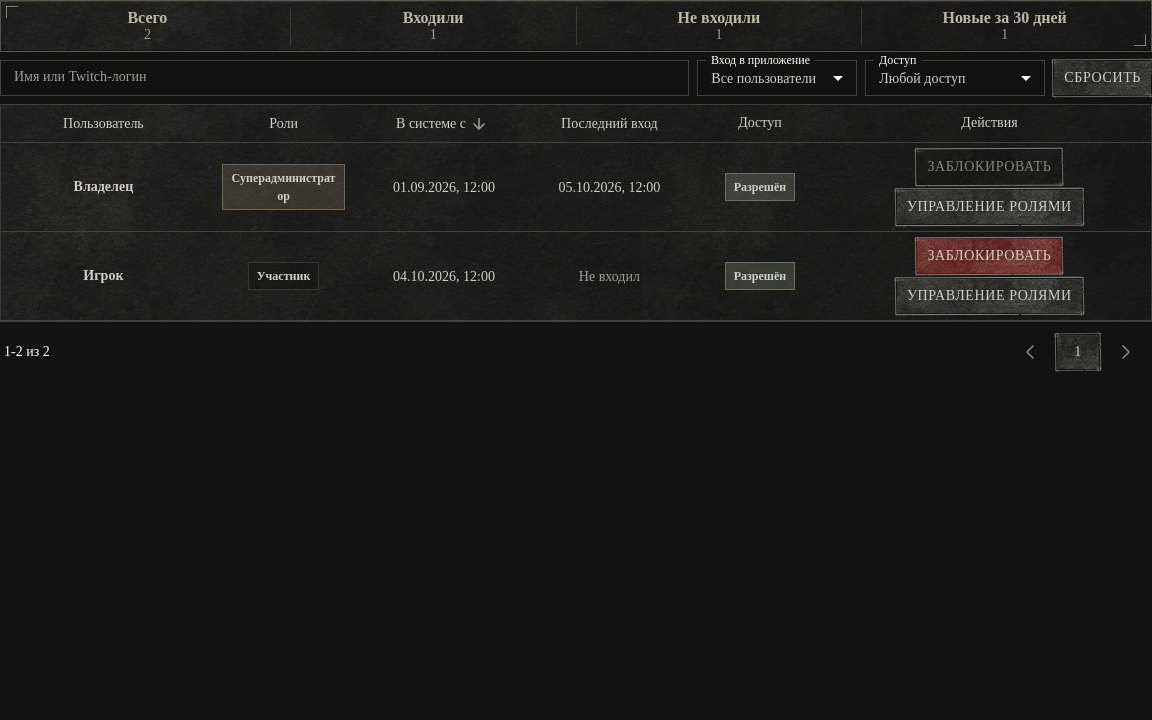
RoleAdministrationPage › keeps the list compact and protects permanent and inherited roles in the editor
expect the button with aria-label "Управление ролями: Игрок" is shown: met, box x1=896 y1=278 x2=1083 y2=314
expect the text "Не входил" is shown: met, box x1=579 y1=269 x2=640 y2=284
Click the button with aria-label "Управление ролями: Владелец". click: click(989, 207)
box: x1=896 y1=189 x2=1083 y2=225
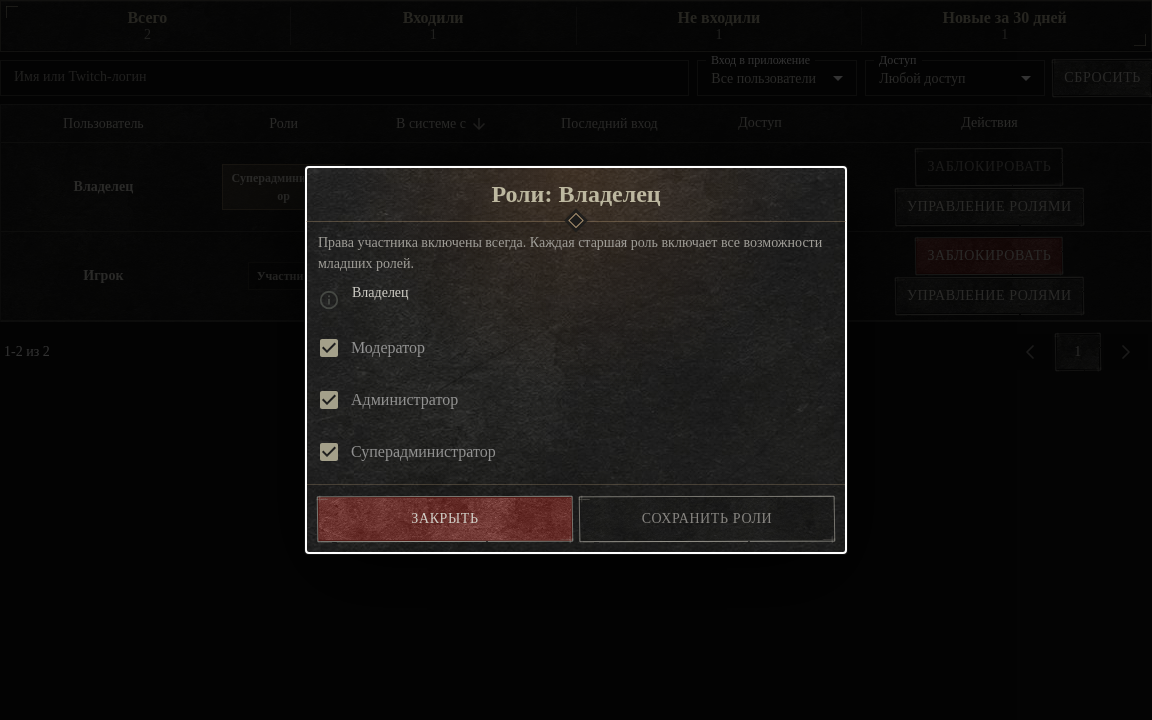
expect the checkbox labelled "Суперадминистратор" is disabled: met, box x1=317 y1=440 x2=496 y2=464
expect the checkbox labelled "Администратор" is disabled: met, box x1=317 y1=388 x2=458 y2=412
Click the button "Закрыть". click: click(445, 519)
box: x1=318 y1=497 x2=572 y2=541
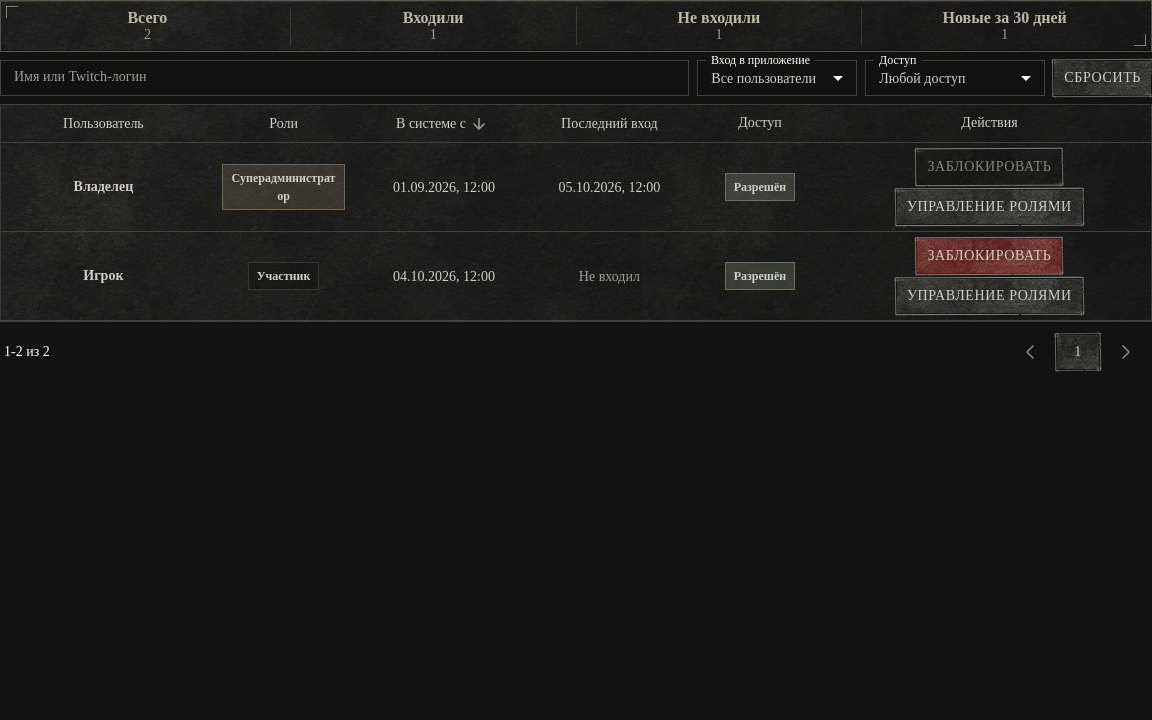
expect the dialog is gone: met
Click the button with aria-label "Управление ролями: Игрок". click: click(989, 296)
box: x1=896 y1=278 x2=1083 y2=314
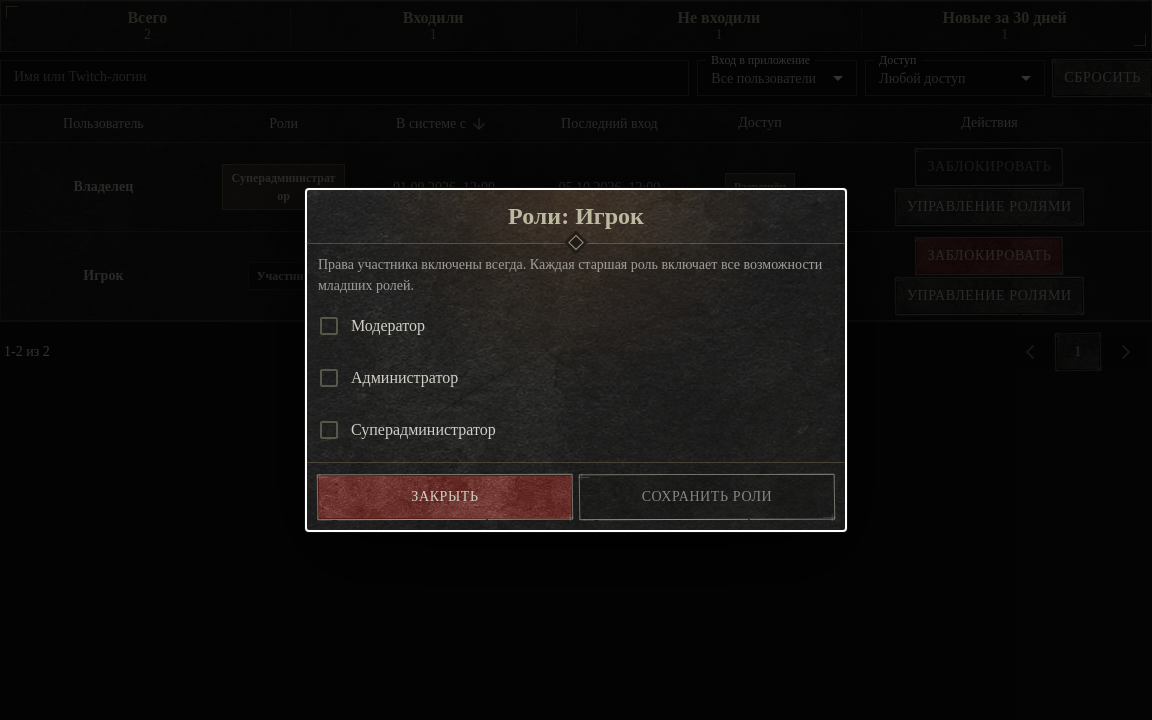
Click the checkbox labelled "Суперадминистратор". click: click(406, 430)
box: x1=317 y1=418 x2=496 y2=442
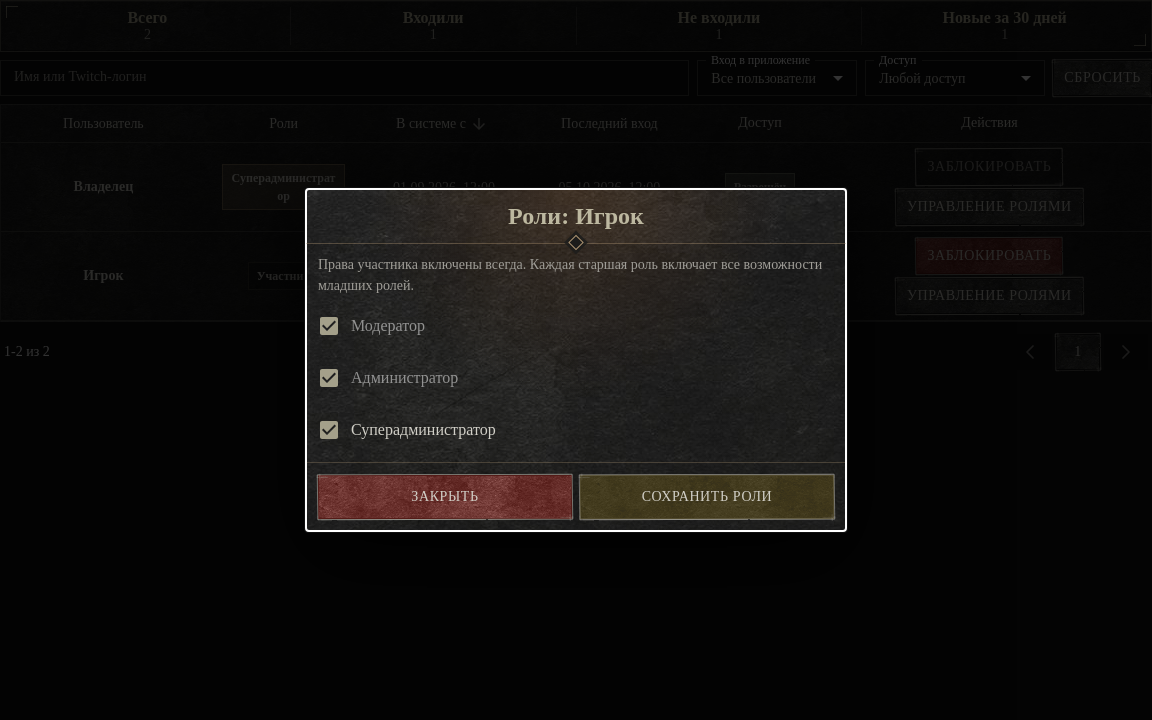
expect the checkbox labelled "Администратор" is checked: met, box x1=317 y1=366 x2=458 y2=390
expect the checkbox labelled "Модератор" is checked: met, box x1=317 y1=314 x2=425 y2=338
expect the checkbox labelled "Модератор" is disabled: met, box x1=317 y1=314 x2=425 y2=338
Click the button "Сохранить роли". click: click(707, 497)
box: x1=580 y1=475 x2=834 y2=519
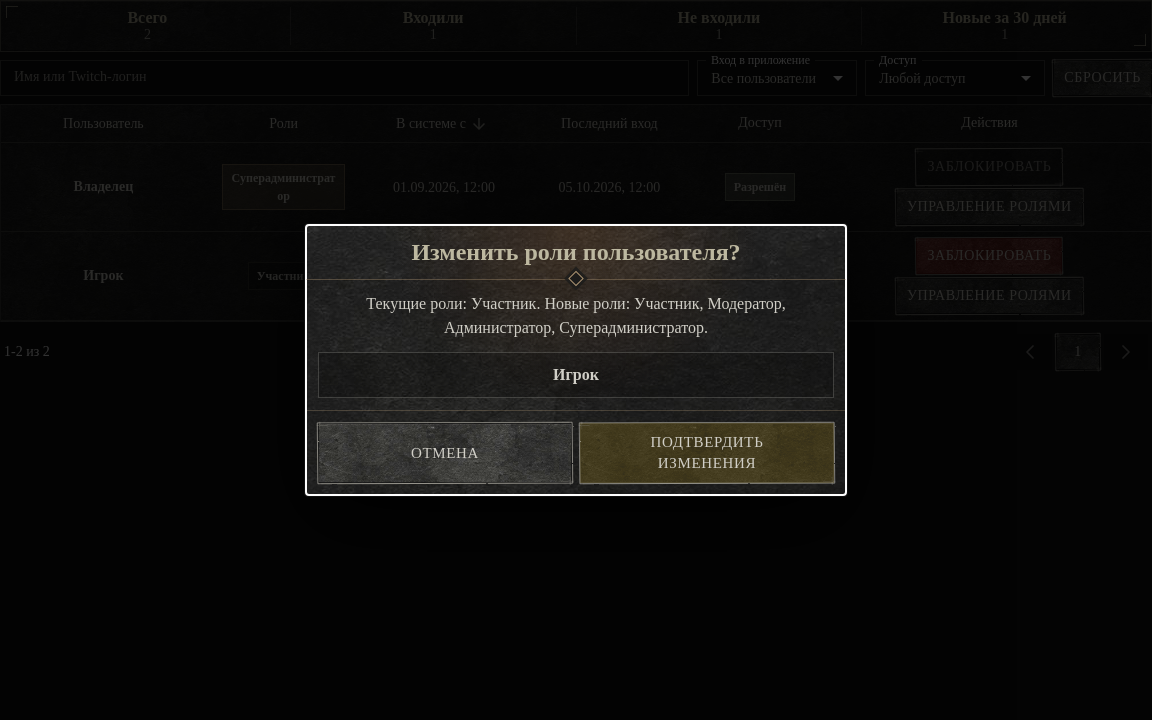
Click the button "Подтвердить изменения". click: click(707, 453)
box: x1=580 y1=423 x2=834 y2=483
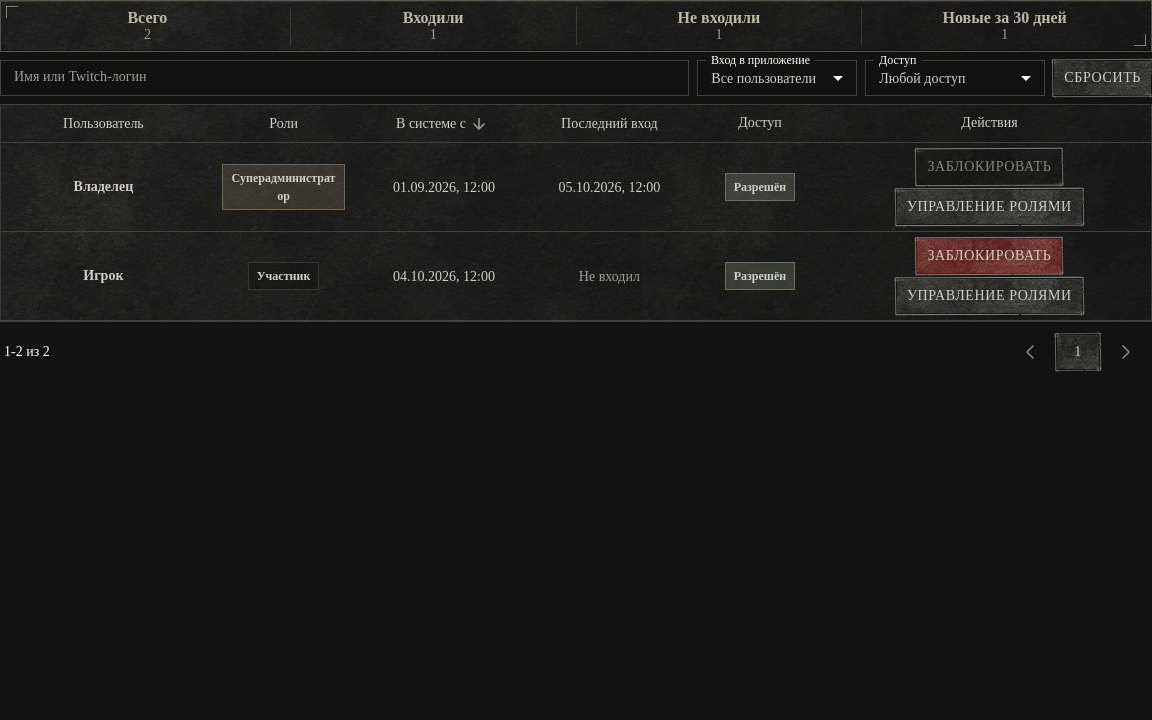
expect the dialog is gone: met
